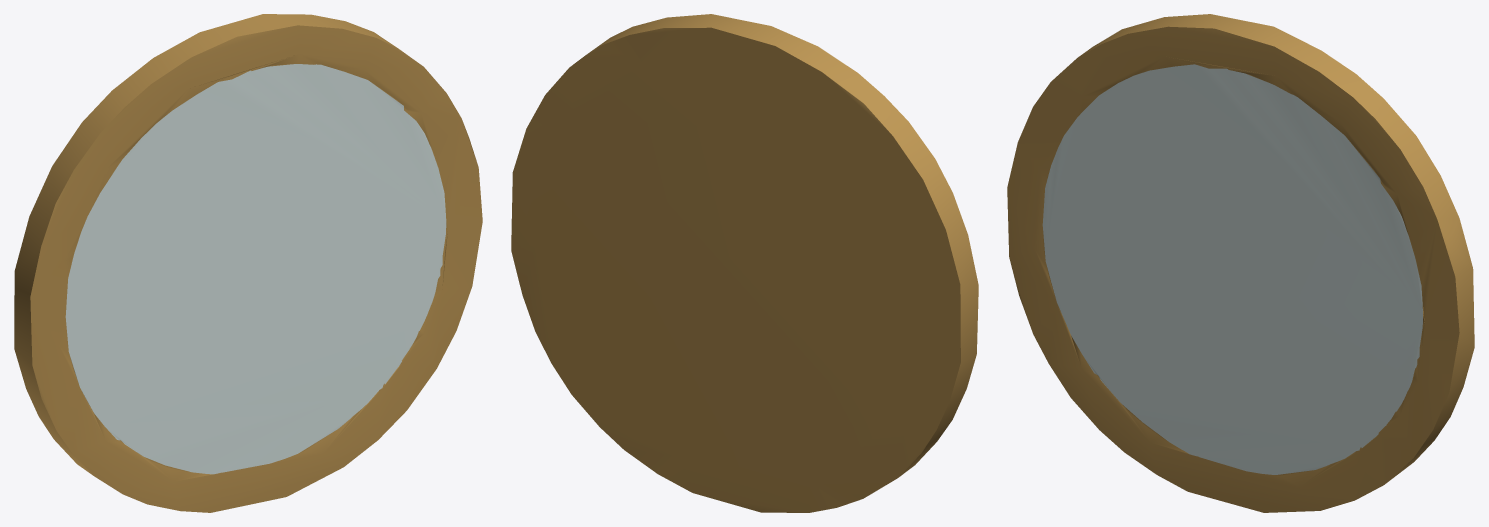
Rendered from mirror.glb.
The picture shows the model from 3 angles, left to right: view 1: azimuth 30°, elevation 25°; view 2: azimuth 150°, elevation 25°; view 3: azimuth 330°, elevation 25°; orthographic projection.
Parts seen in each view (by area): view 1: mirror_glass, mirror_ring; view 2: mirror_ring; view 3: mirror_glass, mirror_ring.
Boxes of the visible parts, x1=… form: mirror_glass: x1=65, y1=64, x2=446, y2=474; mirror_ring: x1=14, y1=14, x2=482, y2=512; mirror_ring: x1=511, y1=14, x2=978, y2=512; mirror_glass: x1=1042, y1=64, x2=1422, y2=474; mirror_ring: x1=1007, y1=14, x2=1474, y2=512.
Bounding box in the file's own units: 0.8689 × 0.8683 × 0.0593.
